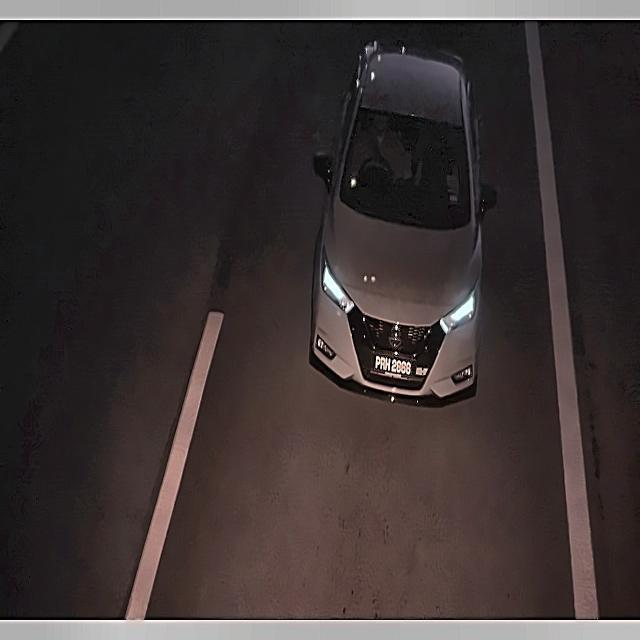car: (368, 344, 416, 386)
